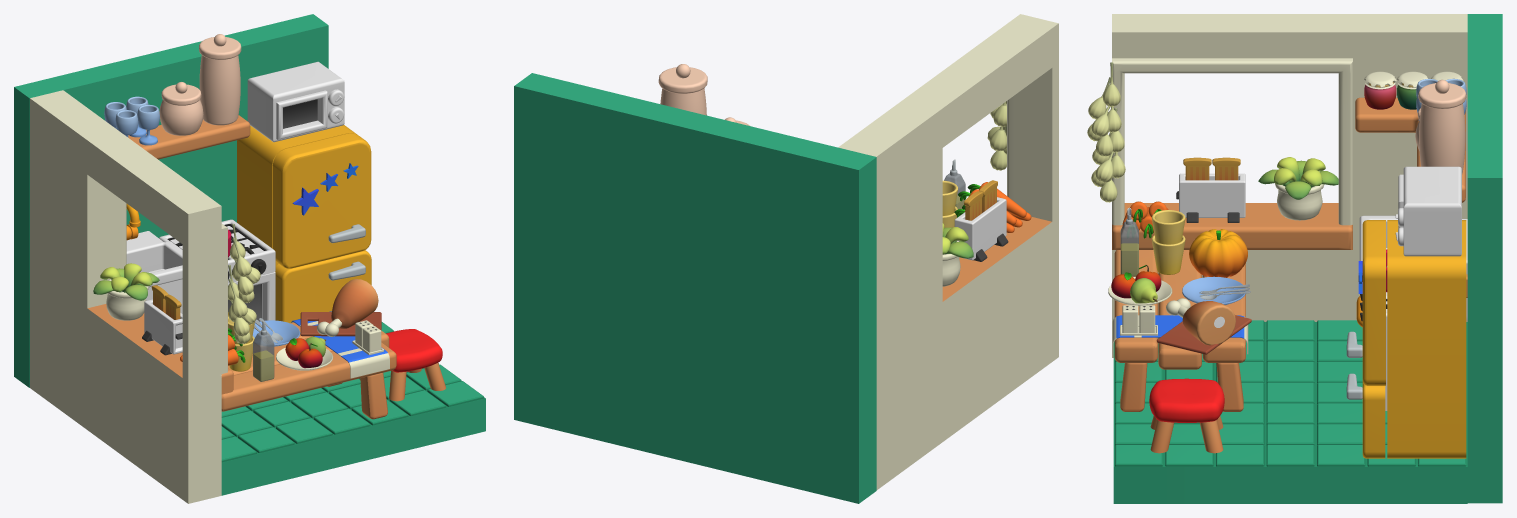
The model's file is Kitchen.fbx.
3 views of the same model, side by side, from view 1: azimuth 30°, elevation 25°; view 2: azimuth 150°, elevation 25°; view 3: azimuth 270°, elevation 25° (orthographic). The views are drawn at different scales.
Parts seen in each view (by area): view 1: pCube37, pCube64, pCube1, pCube69, polySurface9, pSphere4, pCube63, pCube81, pCube38, pCylinder49, pCube41, pSphere23 (+12 smaller); view 2: pCube37, pCube87, pSphere4, pCylinder49, pSphere23, pCylinder53, pCylinder34; view 3: pCube37, pCube1, pCube64, polySurface9, pCube69, pCube63, pCube87, pSphere4, pCylinder49, pSphere23, pCube78, pCylinder67 (+11 smaller).
Boxes of the visible parts, x1,y1,x2,y2 form: pCube37: (14,14,328,503); pCube64: (237,125,371,323); pCube1: (221,322,485,495); pCube69: (247,61,344,142); polySurface9: (221,322,396,419); pSphere4: (199,34,241,125); pCube63: (386,329,445,401); pCube81: (159,219,275,321); pCube38: (126,231,182,313); pCylinder49: (93,263,159,320); pCube41: (128,115,250,159); pSphere23: (228,224,260,343); pCube37: (514,14,1058,503); pCube87: (954,180,1008,261); pSphere4: (658,64,707,115); pCylinder49: (942,223,973,286); pSphere23: (987,101,1006,170); pCylinder53: (954,182,1031,232); pCylinder34: (942,180,958,227); pCube37: (1112,14,1502,503); pCube1: (1113,320,1467,503); pCube64: (1346,220,1466,458); polySurface9: (1114,250,1245,411); pCube69: (1395,166,1461,256); pCube63: (1149,378,1224,453); pCube87: (1176,157,1245,222); pSphere4: (1418,79,1466,173); pCylinder49: (1258,157,1338,220); pSphere23: (1087,62,1125,202); pCube78: (1189,229,1247,277); pCylinder67: (1166,298,1235,345).
Size of the model in its own units: 104 by 102 by 107.
